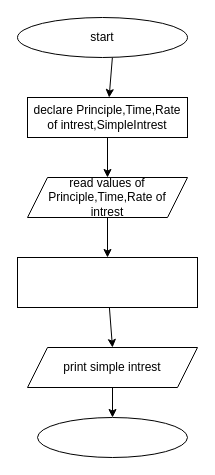
Some shapes in this 215 by 475 pixel diagram are drawn without their labels. Here are the shapes that lost their labels. From the top down, the box of each, then its label:
(16, 256, 198, 308): Perform SimpleIntrest=((Principle*Time*Rate of intrest)/100)
(36, 416, 188, 458): stop
